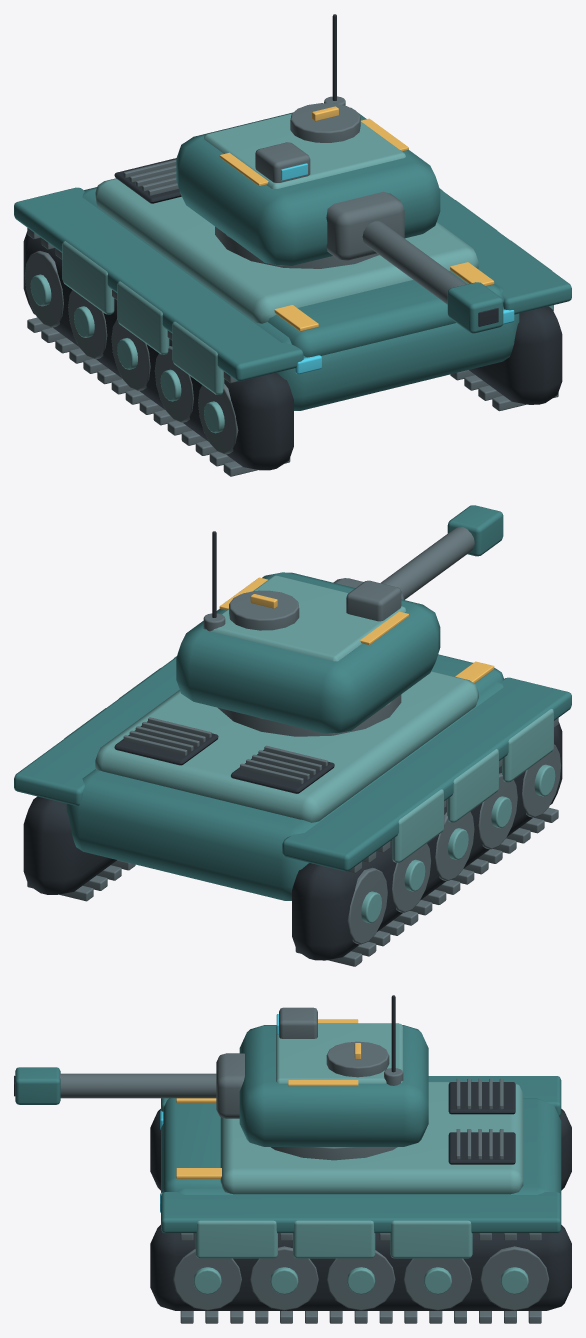
Rendered from meridian-tank.glb.
3 views of the same model, one above another, from view 1: azimuth 30°, elevation 25°; view 2: azimuth 150°, elevation 25°; view 3: azimuth 270°, elevation 25° (orthographic). The views are drawn at different scales.
Visible parts, largest first — view 1: HullMesh, TurretMesh, BarrelMesh; view 2: HullMesh, TurretMesh, BarrelMesh; view 3: HullMesh, TurretMesh, BarrelMesh.
Boxes of the visible parts, x1,y1,x2,y2 form: HullMesh: [14, 158, 571, 476]; TurretMesh: [176, 14, 440, 265]; BarrelMesh: [326, 191, 503, 333]; HullMesh: [14, 654, 571, 966]; TurretMesh: [176, 531, 440, 733]; BarrelMesh: [333, 505, 503, 599]; HullMesh: [150, 1076, 571, 1323]; TurretMesh: [239, 995, 428, 1146]; BarrelMesh: [14, 1053, 244, 1118].
Size of the model in its own units: 3.21 by 2.89 by 5.16.
